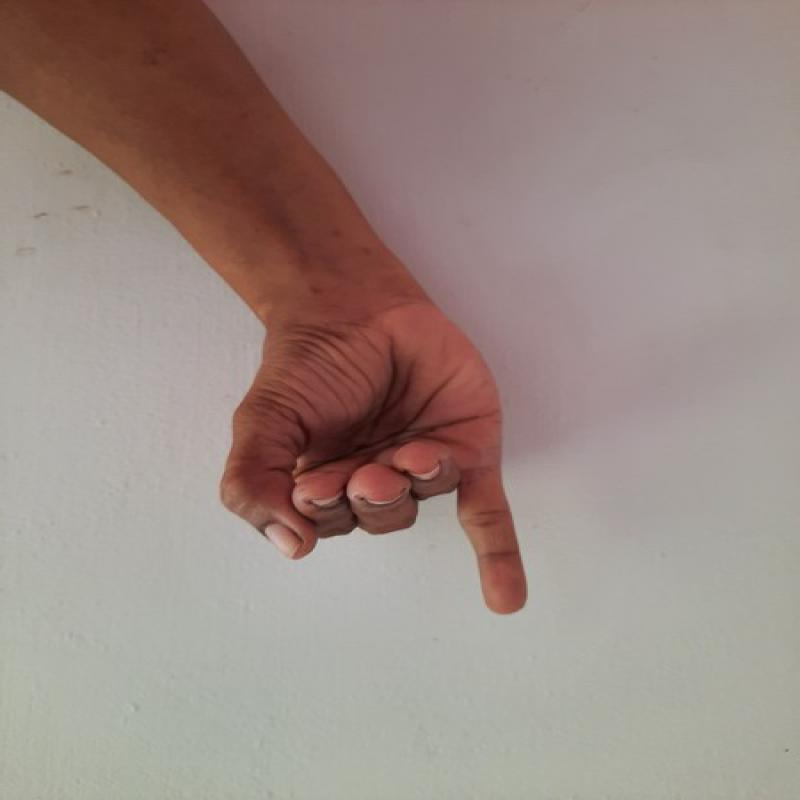Kartharee Mukham: (202, 296, 542, 625)
